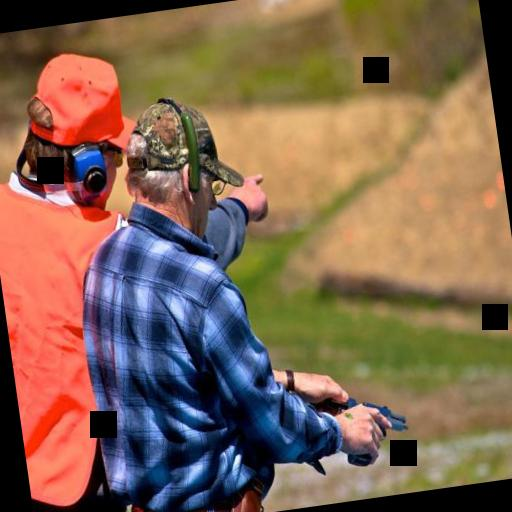Handgun: (319, 380, 417, 472)
